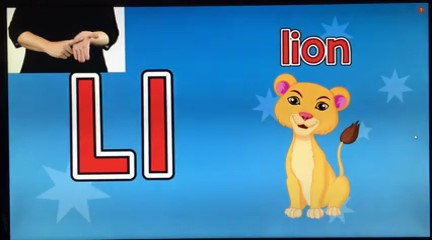L: (45, 27, 112, 66)
